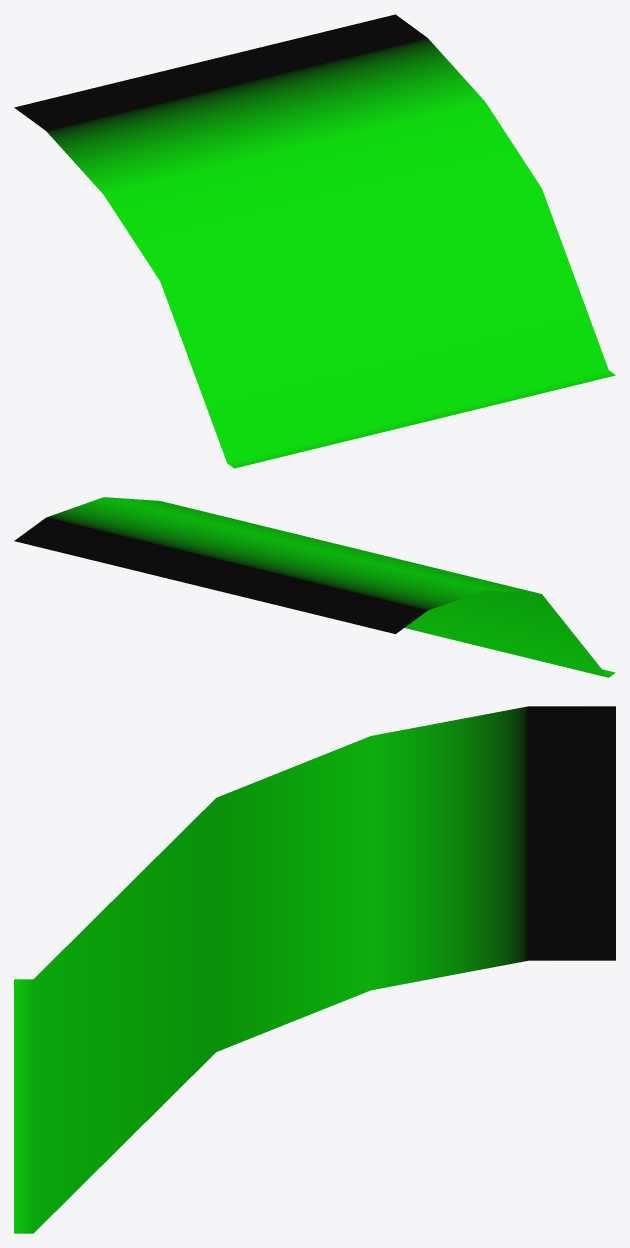
Rendered from SM_Ground_8m_Coast.FBX.
3 views of the same model, one above another, from view 1: azimuth 30°, elevation 25°; view 2: azimuth 150°, elevation 25°; view 3: azimuth 270°, elevation 25° (orthographic). The views are drawn at different scales.
Parts seen in each view (by area): view 1: SM_Ground_8m_Coast; view 2: SM_Ground_8m_Coast; view 3: SM_Ground_8m_Coast.
Boxes of the visible parts, left/top/right/bottom form: SM_Ground_8m_Coast: left=14, top=14, right=615, bottom=468; SM_Ground_8m_Coast: left=14, top=497, right=615, bottom=677; SM_Ground_8m_Coast: left=14, top=706, right=615, bottom=1233.
Bounding box in the file's own units: 800 × 800 × 400.
